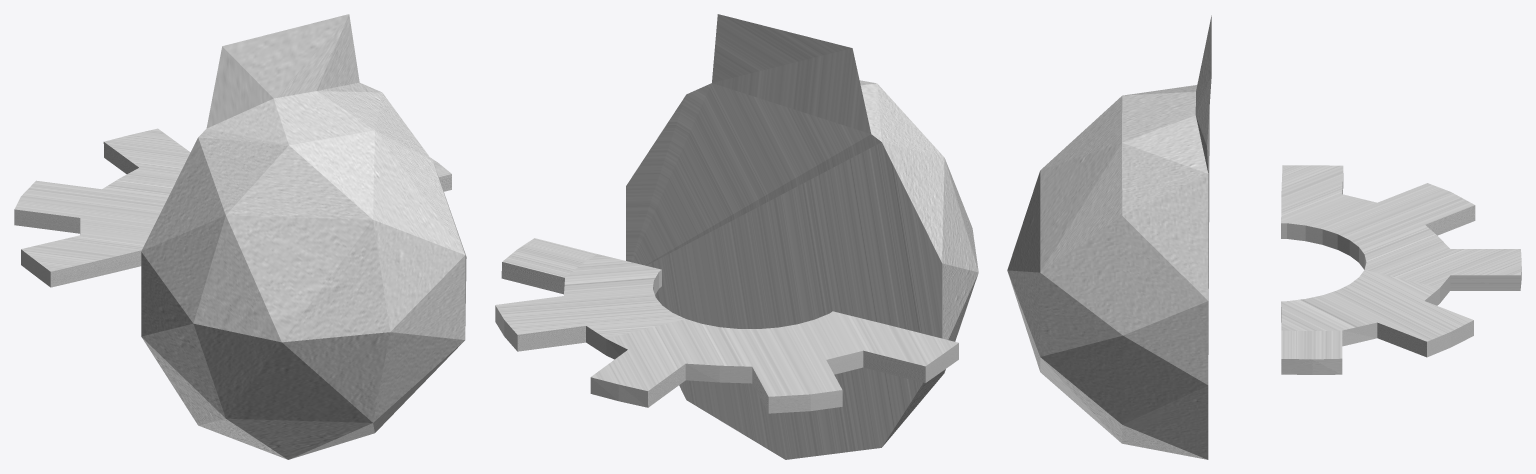
File: ensPlanet.fbx
3 renders of one model, left to right at view 1: azimuth 30°, elevation 25°; view 2: azimuth 150°, elevation 25°; view 3: azimuth 270°, elevation 25°, orthographic. The views are drawn at different scales.
Parts seen in each view (by area): view 1: Cylinder; view 2: Cylinder; view 3: Cylinder.
Boxes of the visible parts, x1,y1,x2,y2 form: Cylinder: [14, 14, 466, 459]; Cylinder: [495, 14, 978, 459]; Cylinder: [1007, 15, 1521, 459].
Size of the model in its own units: 29.07 by 32.45 by 28.1.
1 material, 1 textured.
